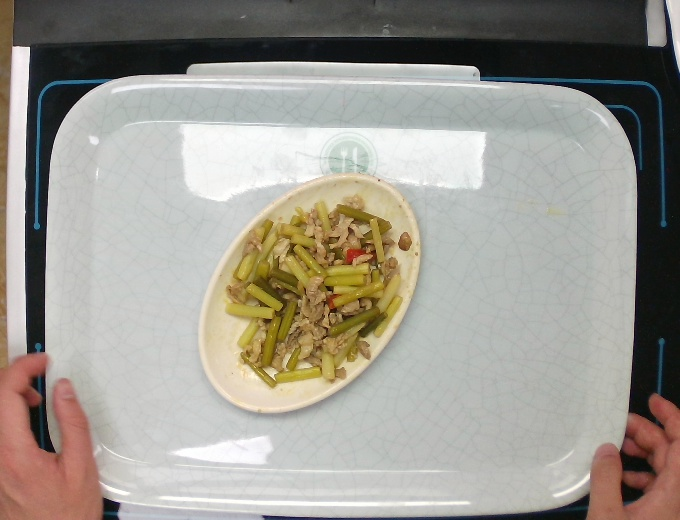JYsf-Tuo_Yuan_Wan: (198, 173, 422, 419)
